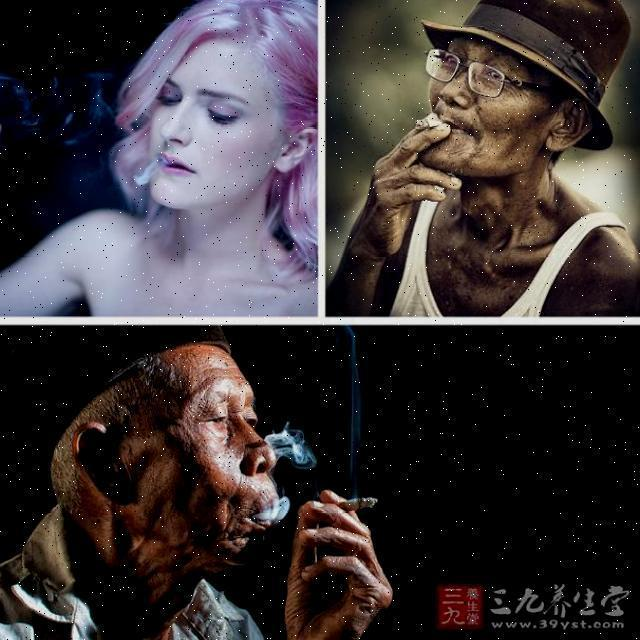smoke: (268, 423, 314, 471), (247, 497, 297, 528)
